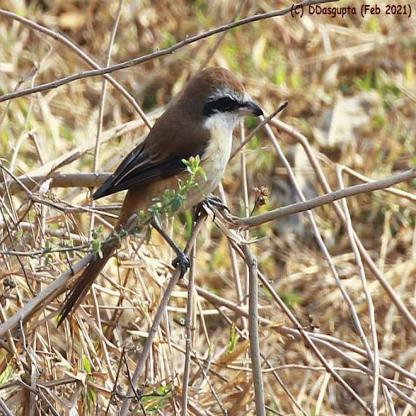Burung: (54, 67, 264, 331)
